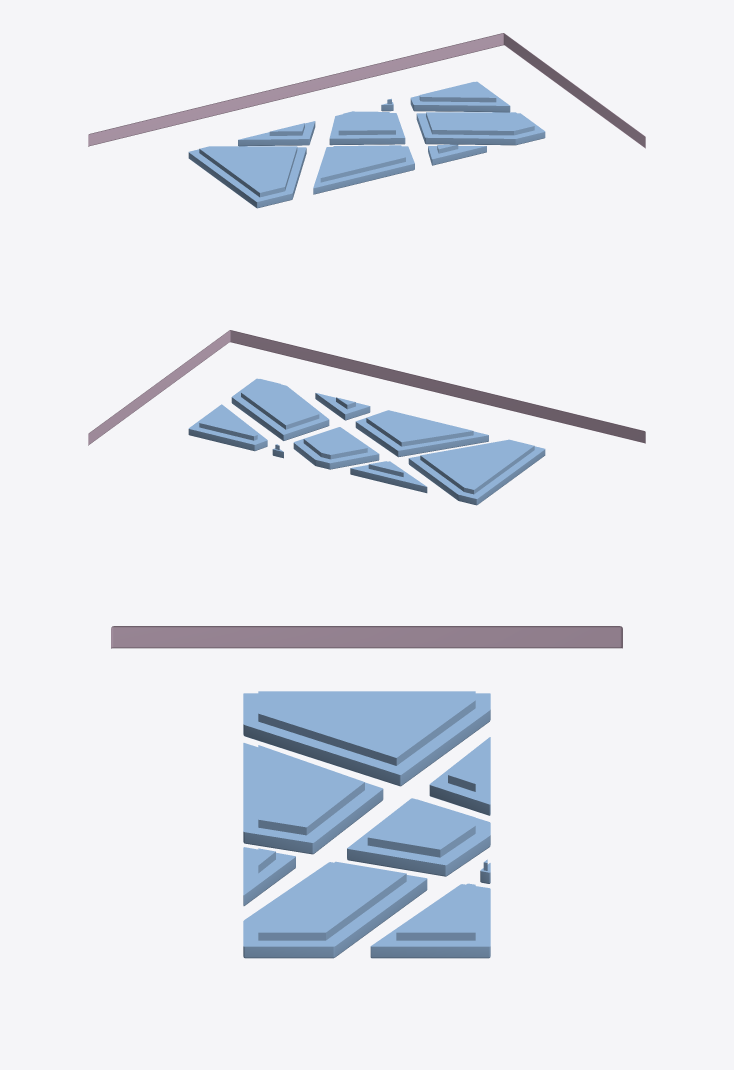
Rendered from falseCeiling2.glb.
3 renders of one model, top to bottom at view 1: azimuth 30°, elevation 25°; view 2: azimuth 150°, elevation 25°; view 3: azimuth 270°, elevation 25°, orthographic. The views are drawn at different scales.
Parts seen in each view (by area): view 1: Object001, Plane001; view 2: Object001, Plane001; view 3: Object001, Plane001.
Part boxes in pixels (box(x1,y1,x2,y2)): Object001: box(188, 81, 545, 208); Plane001: box(88, 33, 645, 148); Object001: box(188, 378, 545, 505); Plane001: box(88, 330, 645, 445); Object001: box(243, 691, 490, 958); Plane001: box(111, 626, 622, 648).
Bounding box in the file's own units: 6 × 0.15 × 4.
